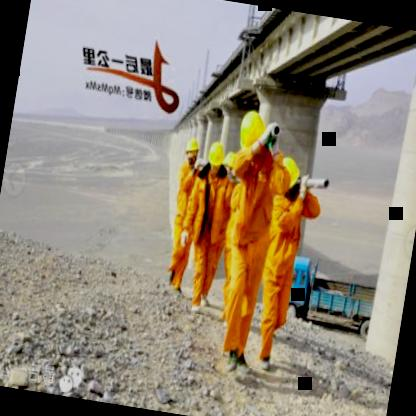helmet: (230, 104, 271, 160), (270, 152, 306, 201), (204, 134, 231, 178), (178, 130, 204, 170)
